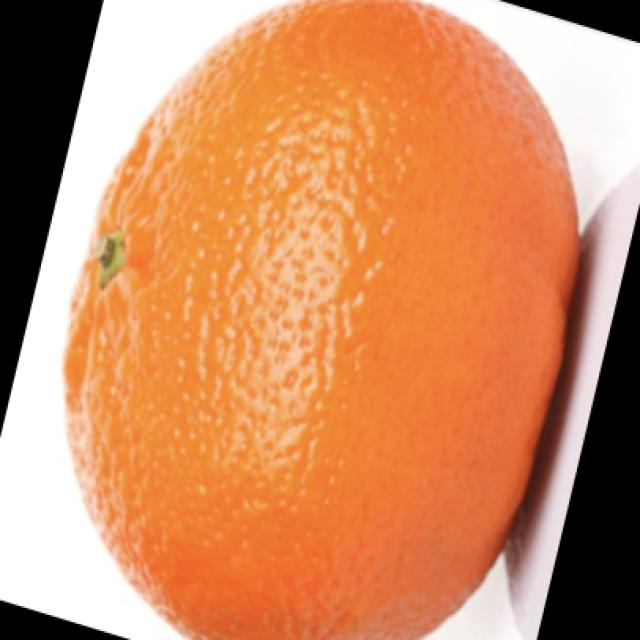orange: (100, 0, 593, 640)
